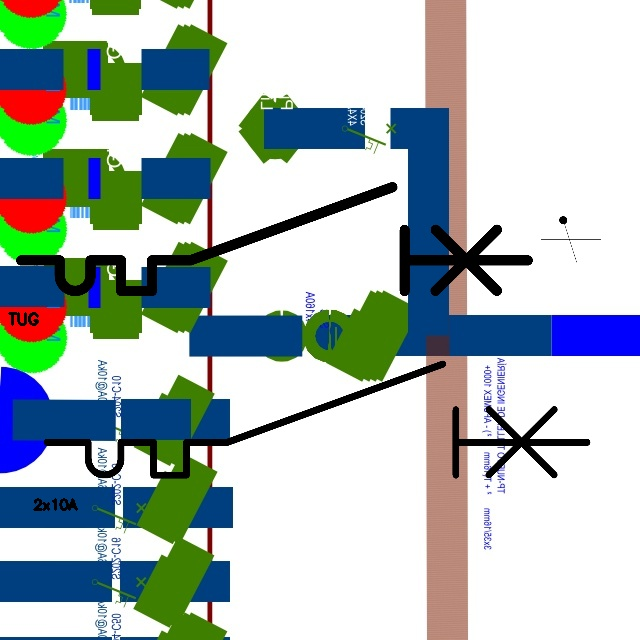interruptor_termomagnetico: (33, 350, 601, 489), (8, 174, 541, 304)
